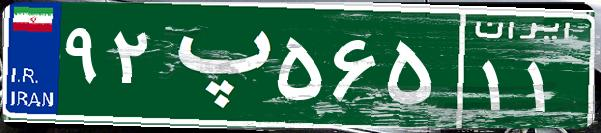1: (475, 38, 525, 113), (525, 38, 570, 115)
2: (110, 28, 158, 105)
5: (385, 28, 445, 110), (273, 28, 330, 110)
6: (330, 28, 385, 110)
9: (57, 26, 110, 107)
پ: (158, 15, 273, 115)
